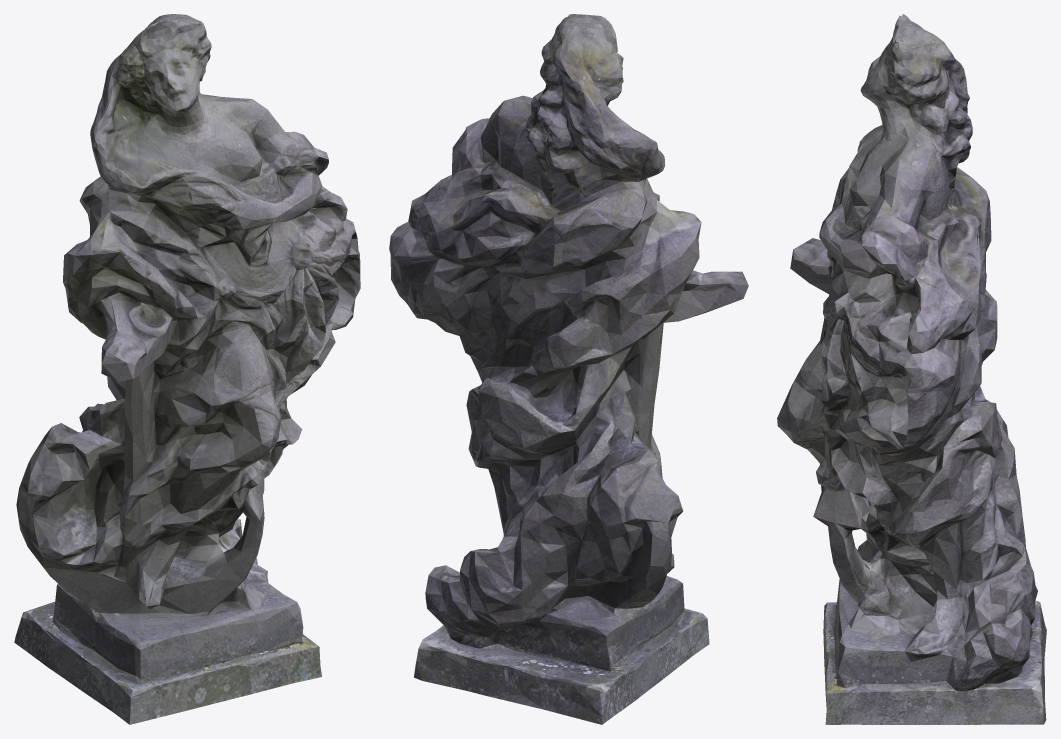
Rendered from nadeje6ksmalltex.glb.
3 views of the same model, side by side, from view 1: azimuth 30°, elevation 25°; view 2: azimuth 150°, elevation 25°; view 3: azimuth 270°, elevation 25° (orthographic). The views are drawn at different scales.
Visible parts, largest first — view 1: socha2_nadeje.001; view 2: socha2_nadeje.001; view 3: socha2_nadeje.001.
Boxes of the visible parts, left/top/right/bottom form: socha2_nadeje.001: left=14, top=14, right=360, bottom=724; socha2_nadeje.001: left=389, top=14, right=748, bottom=724; socha2_nadeje.001: left=777, top=14, right=1046, bottom=724.
Size of the model in its own units: 1.99 by 3.96 by 1.49.
1 material, 1 textured.
